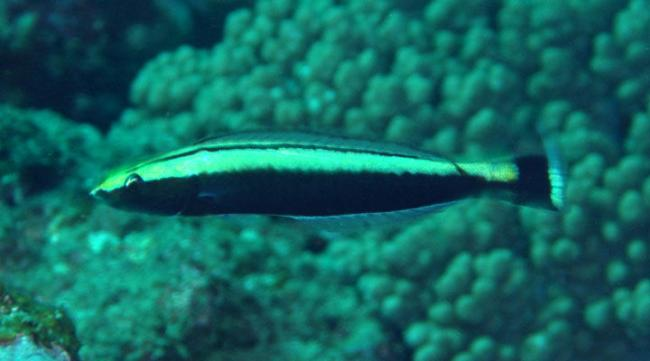fish: (90, 129, 567, 230)
